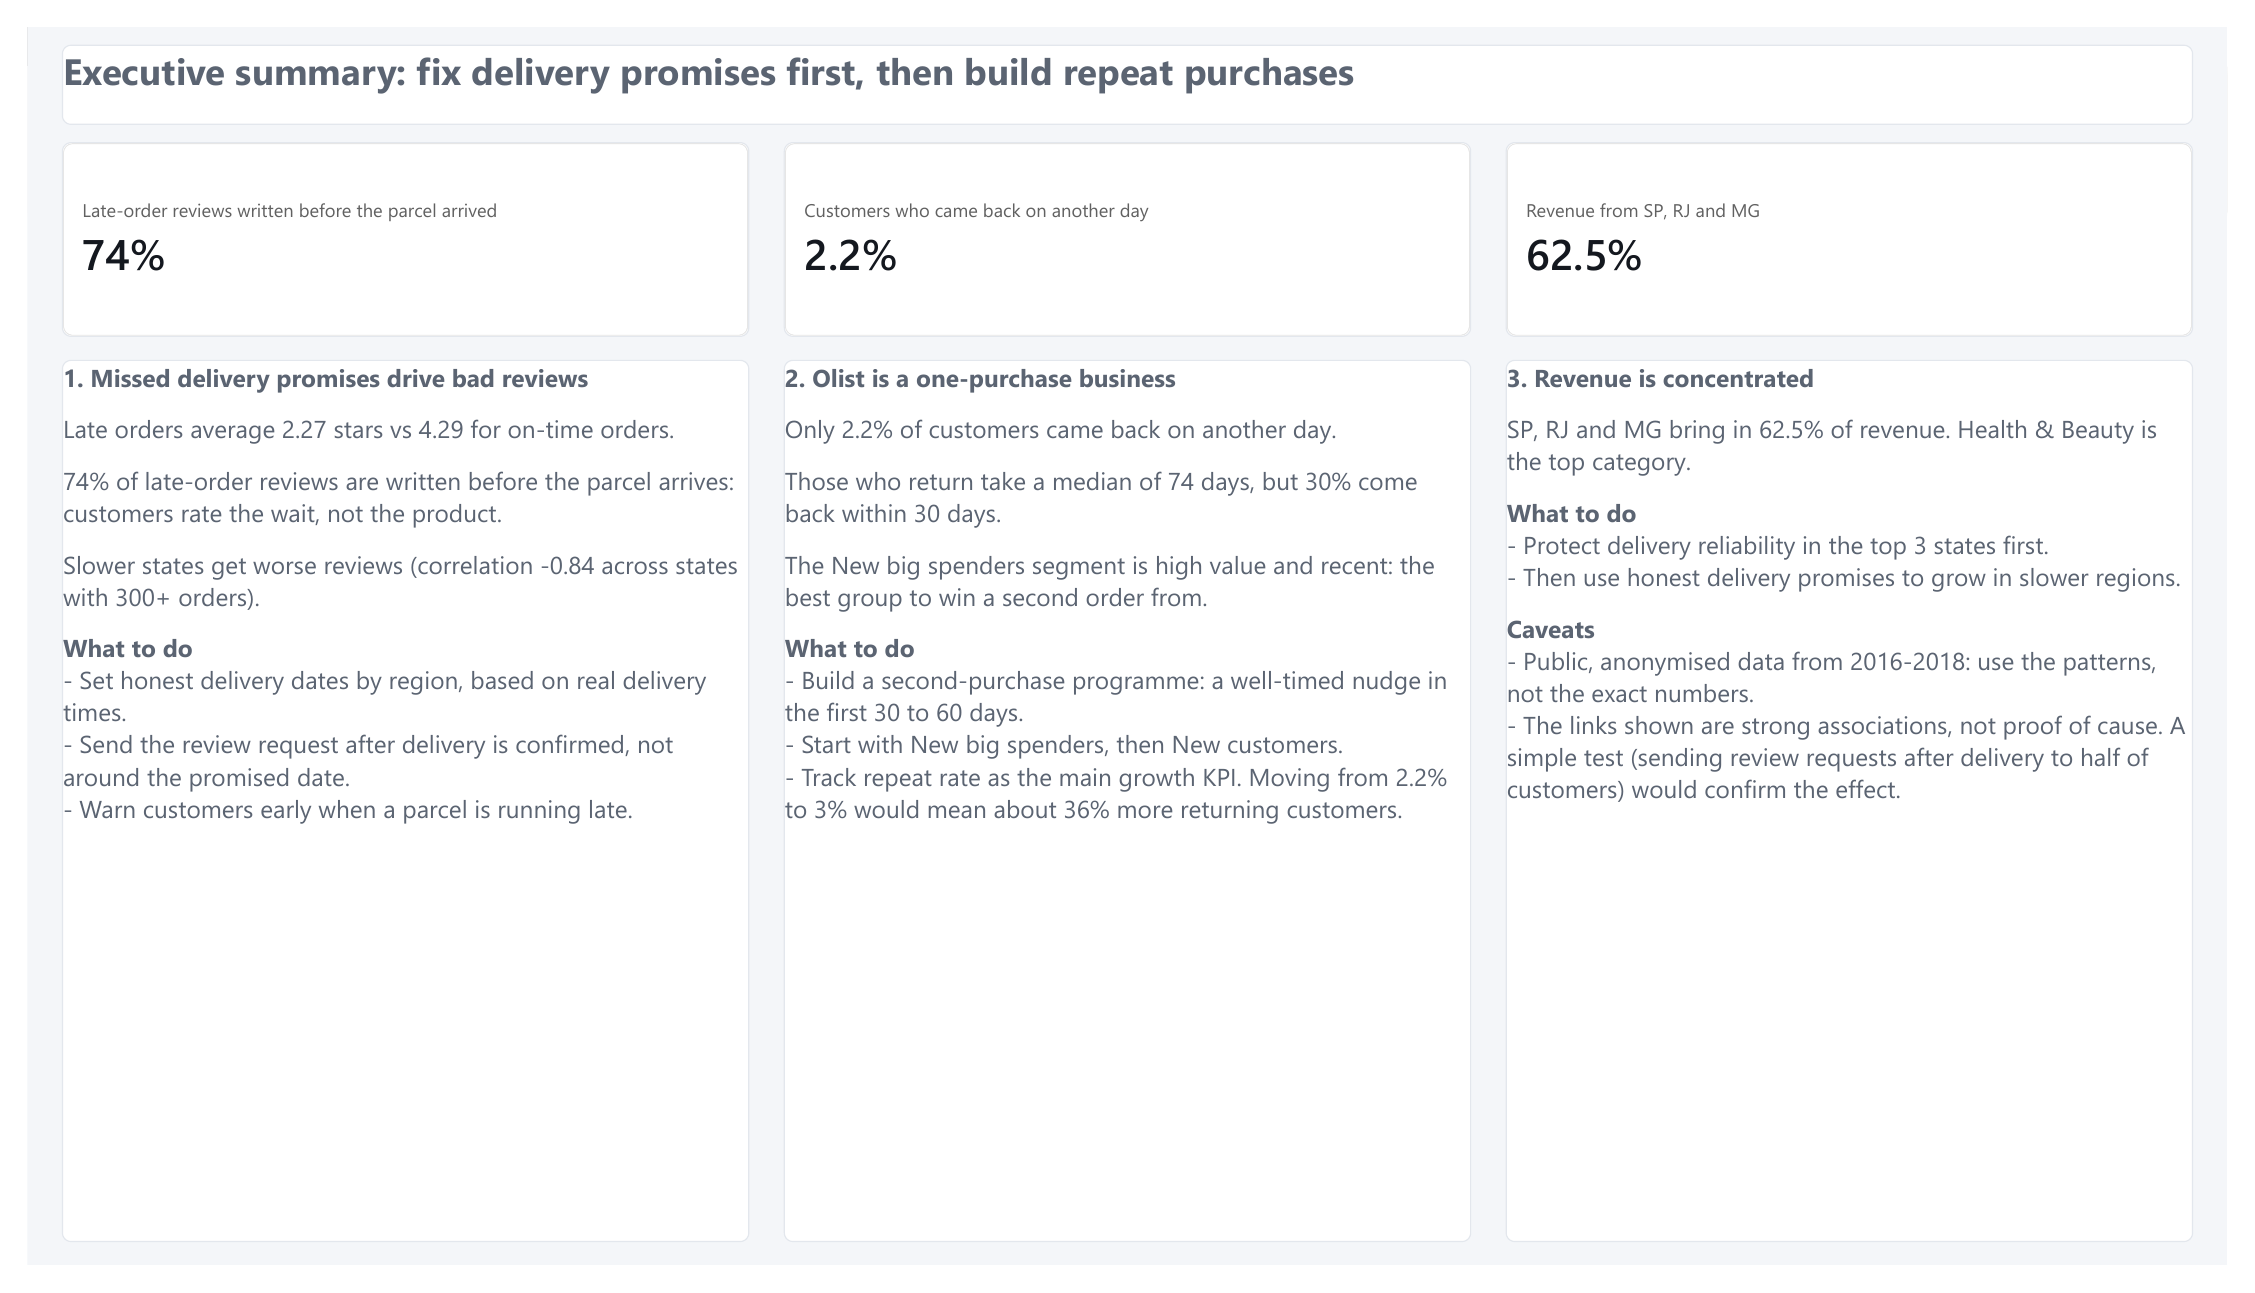

The dashboard page shown, as its layout file describes it:
{"tool":"powerbi","page":{"name":"Recommendations","canvas":[1920,1080],"ordinal":3},"visuals":[{"type":"cardVisual","fields":{"Data":["_Measures.Late Reviews Before Arrival %"]},"box":[30,100,600,170],"z":0},{"type":"cardVisual","fields":{"Data":["_Measures.Repeat Rate"]},"box":[660,100,600,170],"z":1},{"type":"cardVisual","fields":{"Data":["_Measures.Top 3 States Revenue Share"]},"box":[1290,100,600,170],"z":2},{"type":"textbox","box":[30,290,600,770],"z":3},{"type":"textbox","box":[660,290,600,770],"z":4},{"type":"textbox","box":[1290,290,600,770],"z":5},{"type":"textbox","box":[30,15,1860,70],"z":6}]}

Visuals, with their boxes in screenshot pixels (x1, y1, x2, y2), scaled from the page's 1920x1080 canvas onto the 2255x1293 screenshot:
cardVisual - _Measures.Late Reviews Before Arrival %: x1=35 y1=120 x2=740 y2=323
cardVisual - _Measures.Repeat Rate: x1=775 y1=120 x2=1480 y2=323
cardVisual - _Measures.Top 3 States Revenue Share: x1=1515 y1=120 x2=2220 y2=323
textbox: x1=35 y1=347 x2=740 y2=1269
textbox: x1=775 y1=347 x2=1480 y2=1269
textbox: x1=1515 y1=347 x2=2220 y2=1269
textbox: x1=35 y1=18 x2=2220 y2=102
